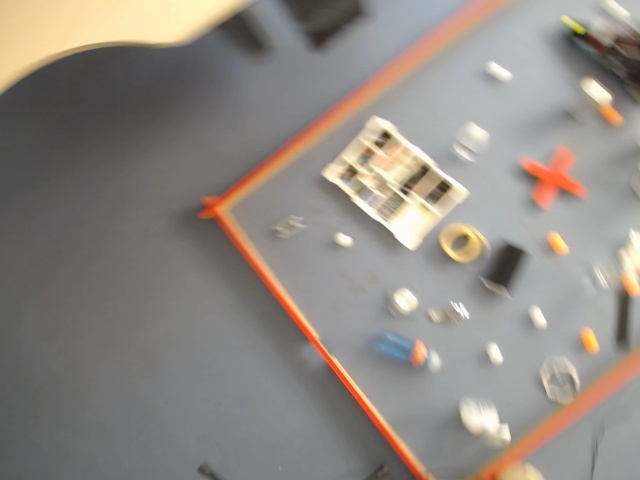orange: (546, 232, 569, 256), (580, 328, 597, 353)
white: (390, 285, 419, 316), (486, 341, 503, 365), (529, 305, 545, 330), (332, 232, 355, 249)
